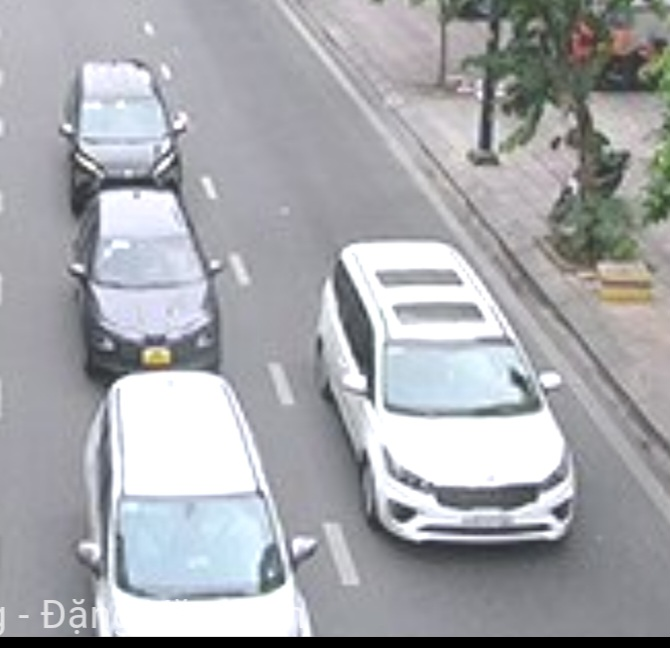car: (314, 232, 577, 549), (80, 378, 309, 639), (74, 199, 222, 374), (61, 55, 180, 192)
